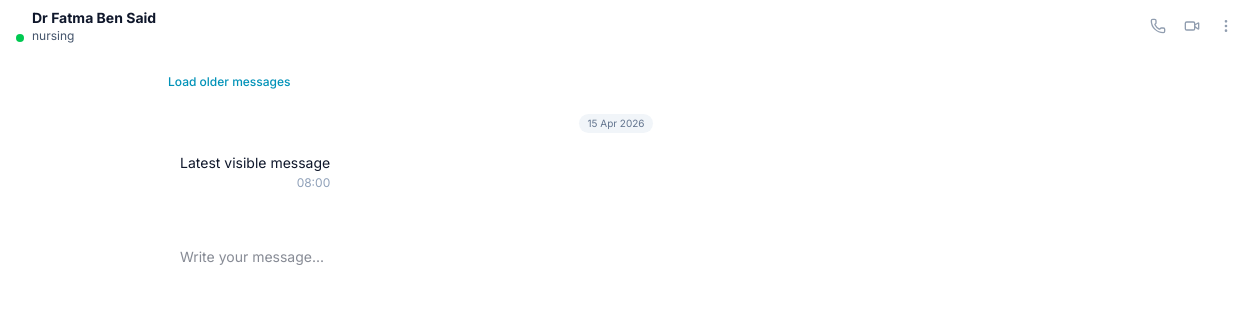
Test case: MessageChatPage translations › shows a visible failure state when loading older history fails
Click the button "Load older messages".
click(229, 82)  # box [168, 74, 291, 90]
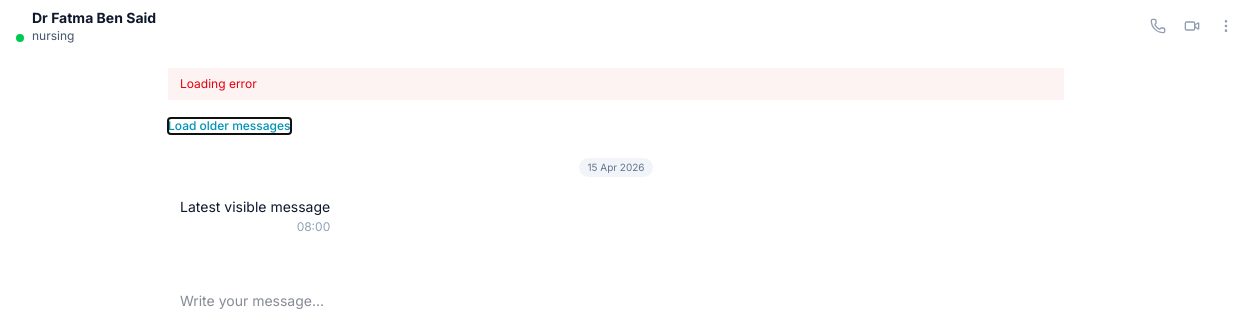
Expected: the button "Load older messages" is shown, [168, 118, 291, 134]
Expected: the message reads "Loading error", [180, 76, 257, 91]
